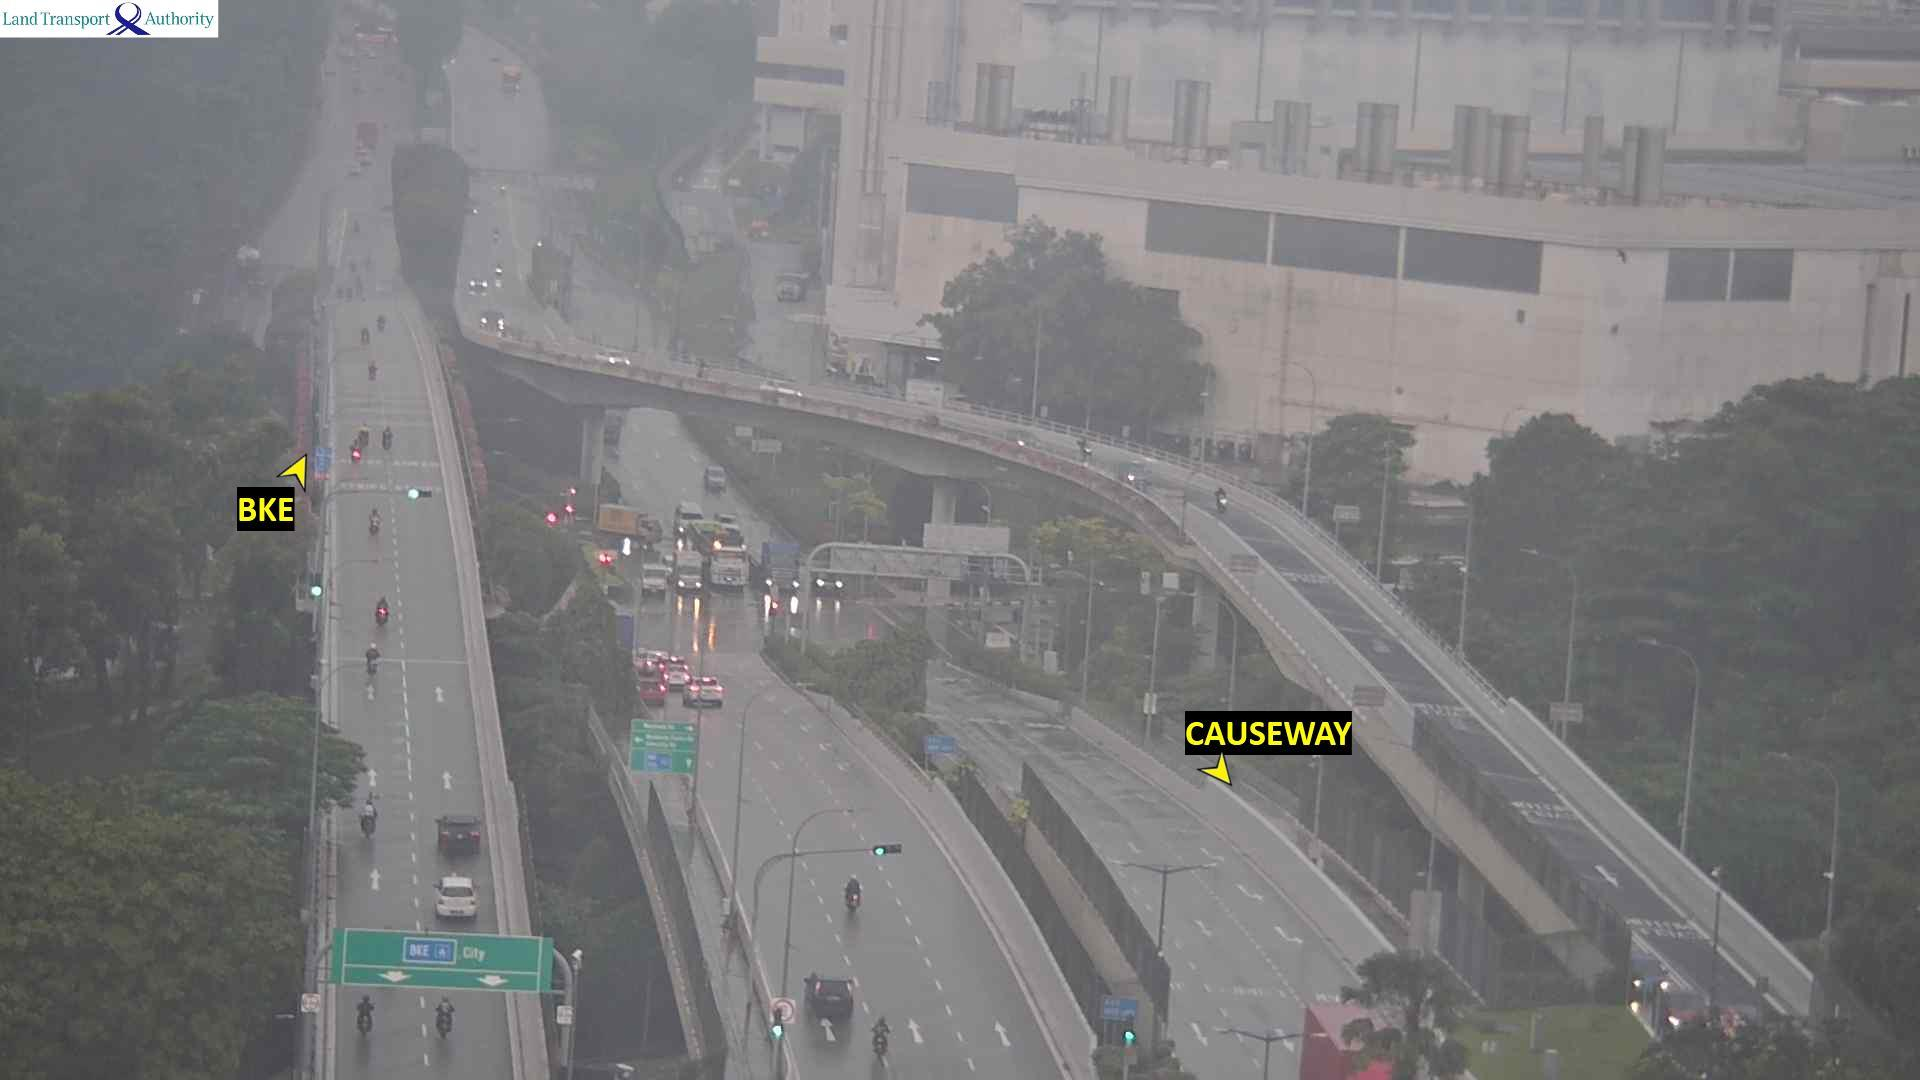vehicle-causeway-johor: (1303, 1005, 1399, 1080), (753, 543, 798, 588), (761, 378, 799, 398), (812, 575, 845, 596), (705, 467, 725, 489), (1080, 438, 1098, 462), (480, 311, 504, 327), (603, 355, 628, 368), (468, 276, 487, 290), (1221, 488, 1234, 505), (495, 265, 504, 274), (492, 228, 498, 240)
vehicle-causeway-singapore: (804, 975, 860, 1013), (436, 816, 485, 857), (436, 881, 473, 916), (435, 897, 475, 919), (687, 676, 721, 702), (869, 1027, 891, 1055), (434, 1001, 450, 1038), (845, 878, 858, 910), (360, 808, 372, 841), (872, 1029, 882, 1062), (376, 599, 389, 624), (357, 443, 371, 462), (364, 646, 373, 671), (363, 334, 375, 348), (360, 425, 369, 443), (384, 426, 392, 447), (367, 513, 373, 535), (367, 360, 373, 380)
